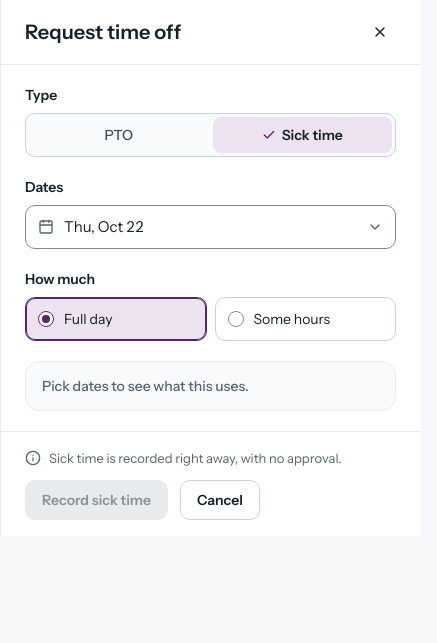
RequestForm, the fields › offers Some hours for sick time, and shows the stepper for it
Click the radio button labelled "Some hours" at (305, 319), box [214,297,396,341]
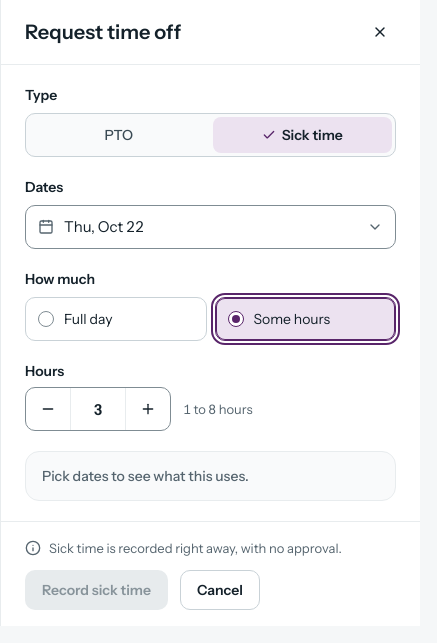
Now the field labelled "Hours" holds "3", box [70,388,126,430]
